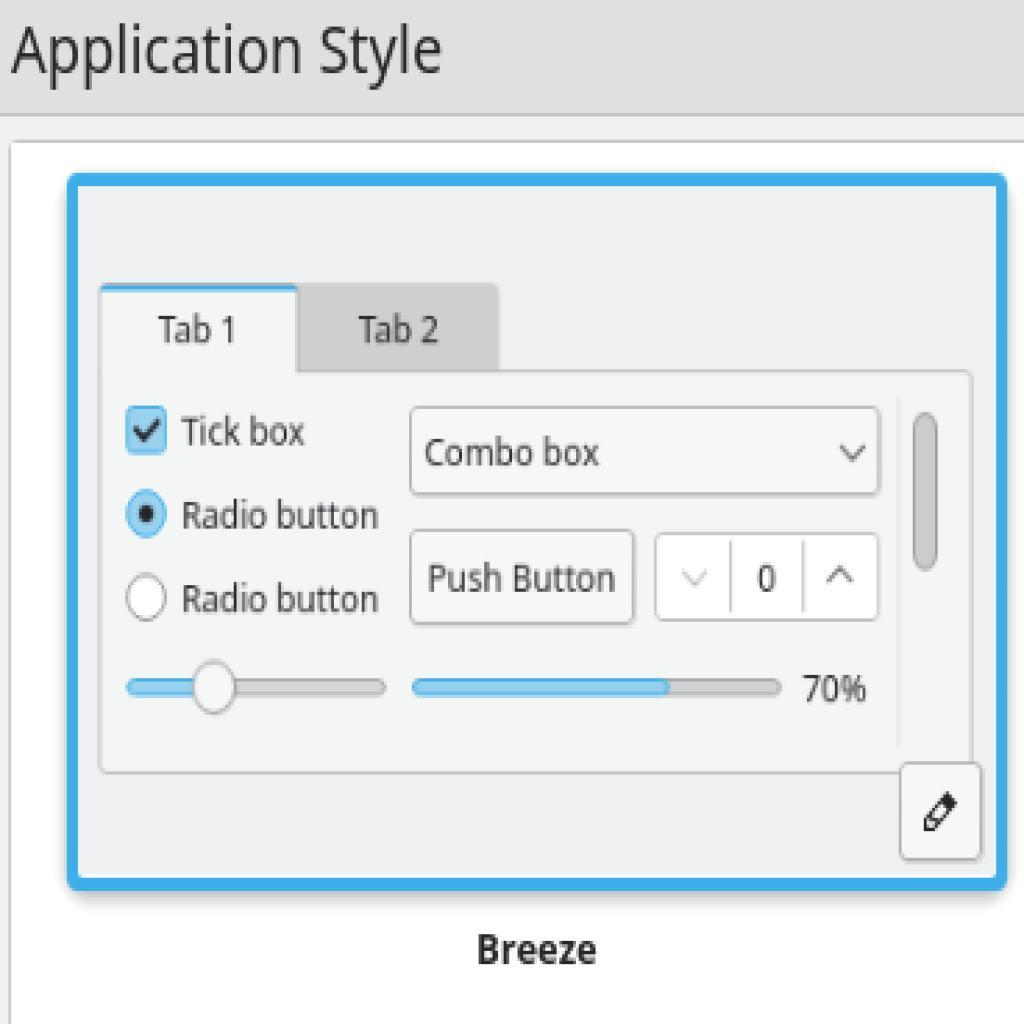button: (410, 530, 635, 625), (298, 284, 500, 373)
checkbox: (120, 404, 172, 460)
dropdown: (414, 409, 883, 494)
icon: (922, 792, 961, 839)
radio: (122, 484, 174, 547), (118, 570, 170, 627)
slider: (409, 647, 885, 714), (123, 659, 393, 720)
